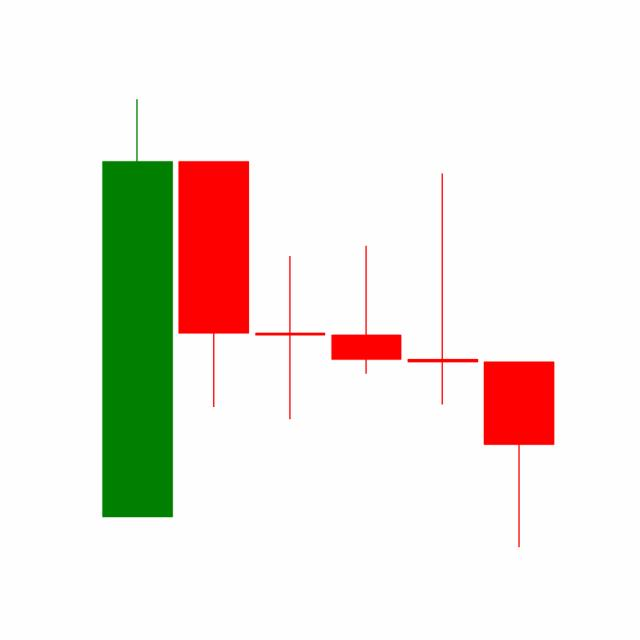Spinning Top: (403, 171, 481, 408)
